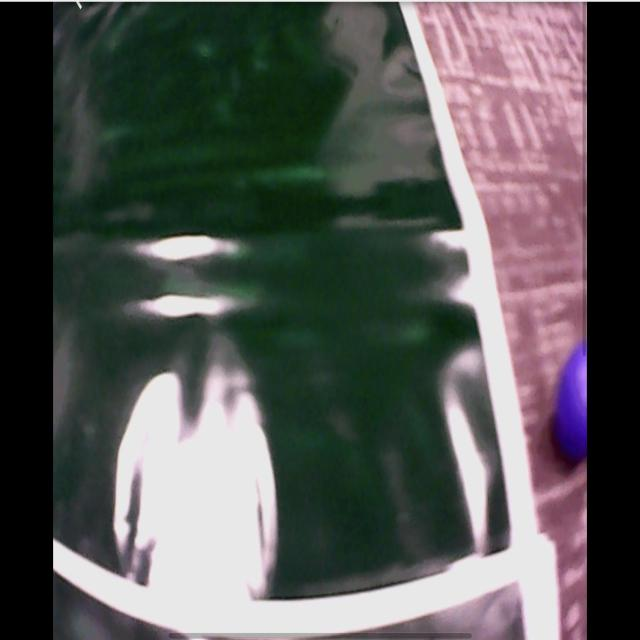ball: (555, 343, 586, 469)
